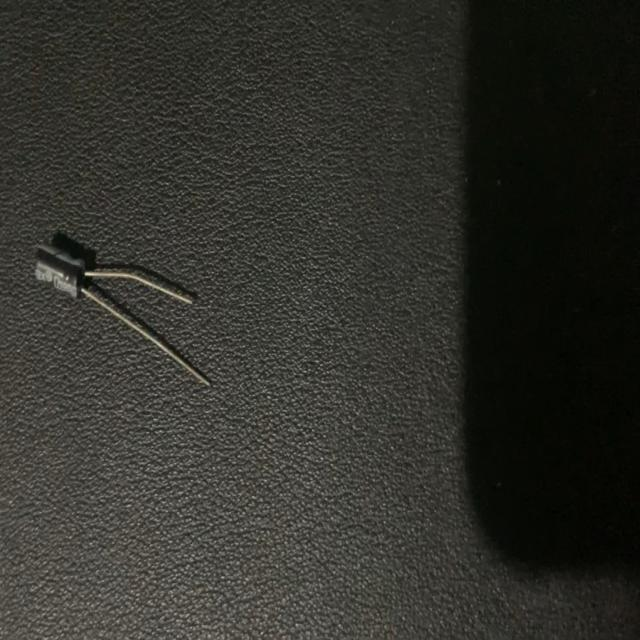capacitor: (34, 243, 212, 387)
